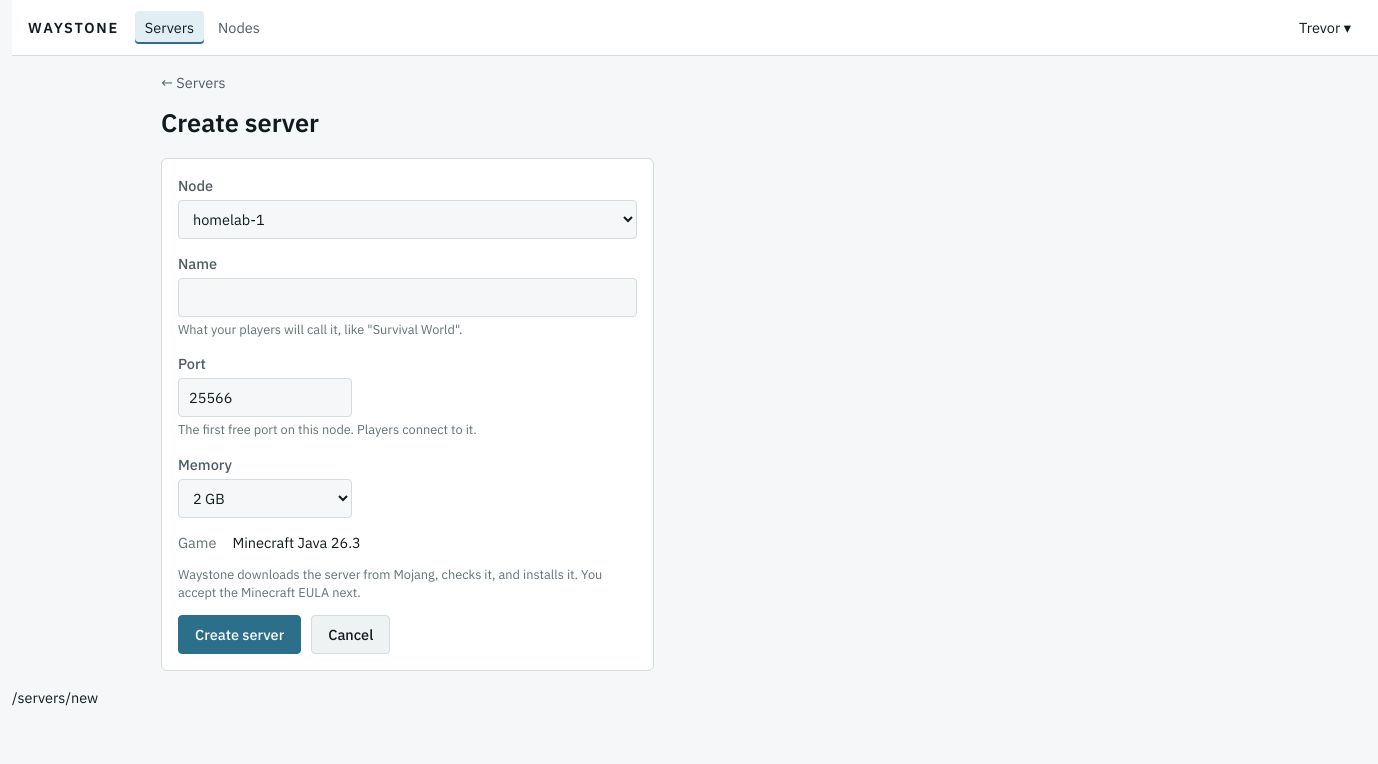
Test: create server (D9) › a refusal for the node is shown with its request ID
This screenshot has width=1378, height=764.
Expected: the dropdown labelled "Node" is shown, [178,200,637,239]
In the field labelled "Name": [408, 297] box [178,278,637,317], type "One more"
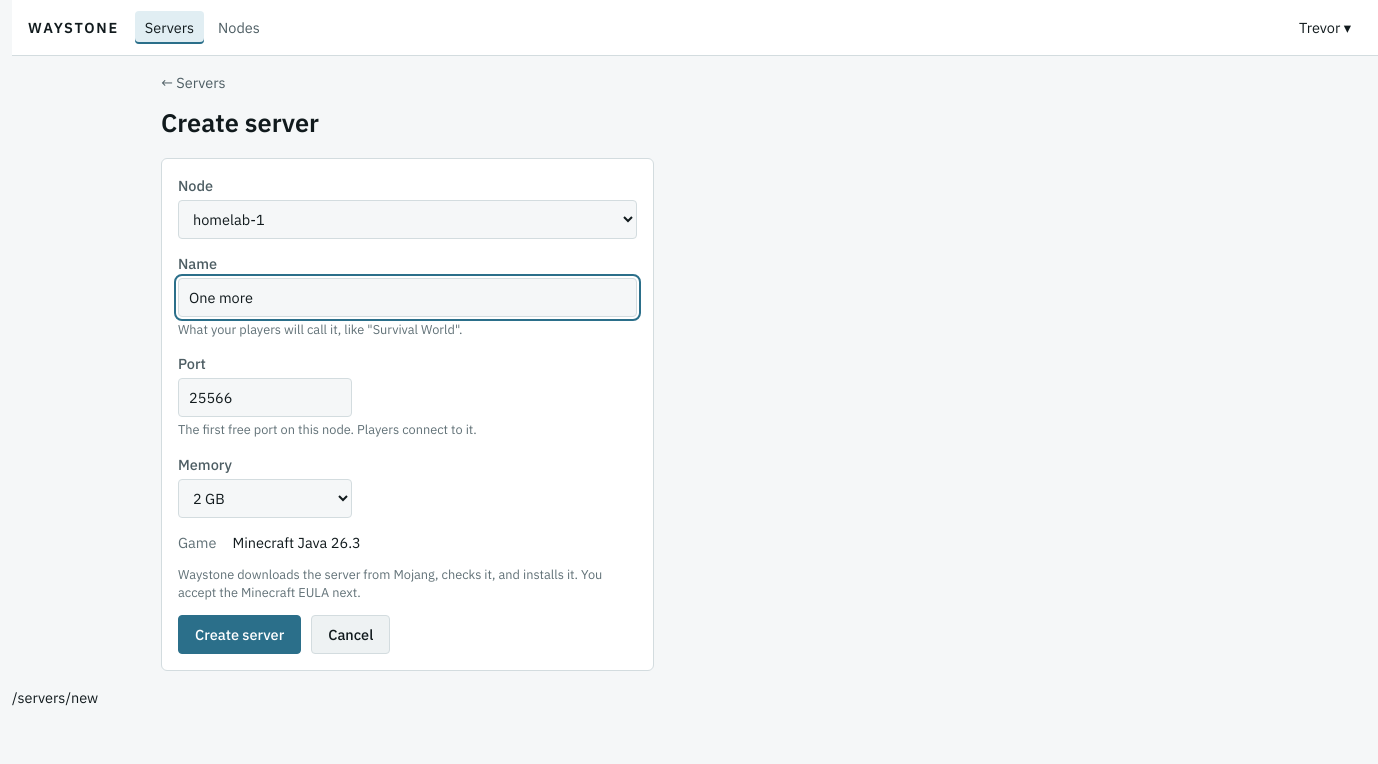
Click the button "Create server": [240, 635] box [178,615,301,654]
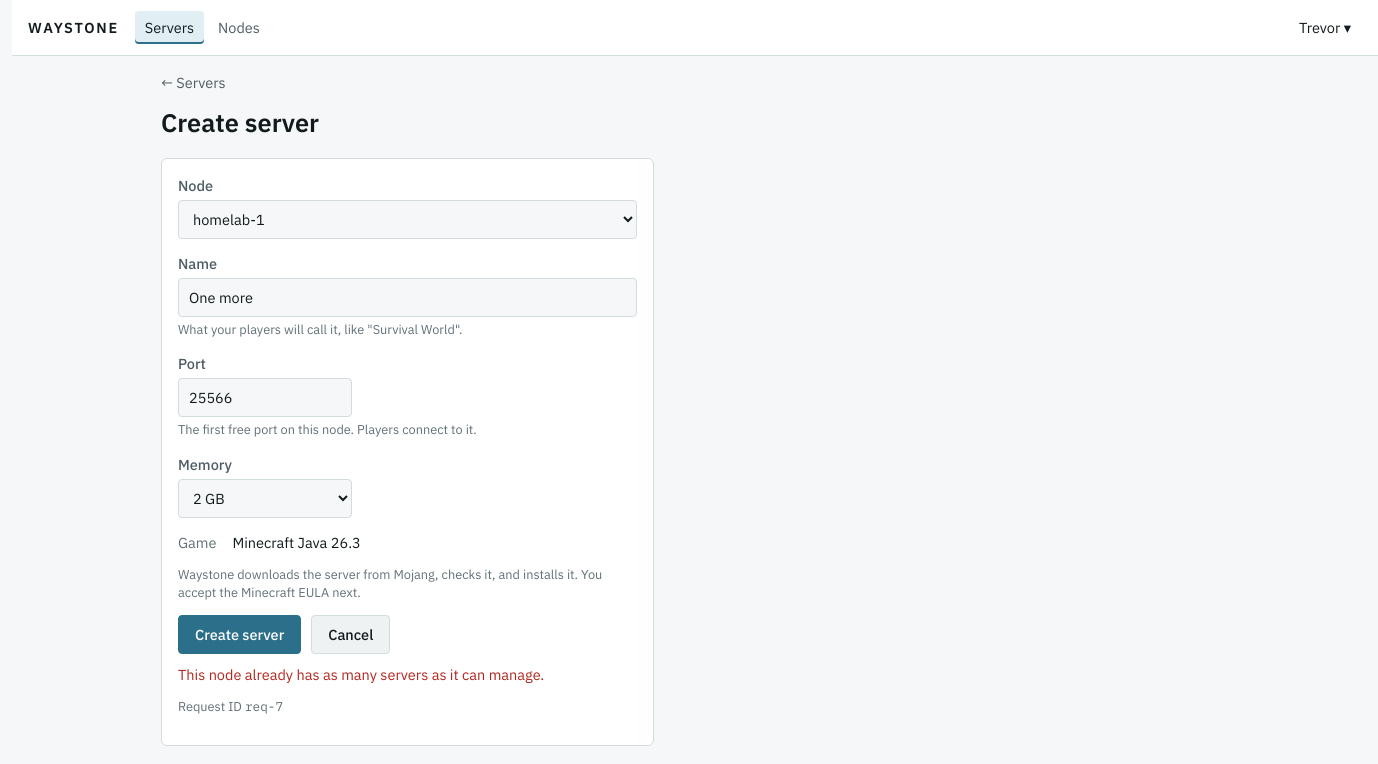
Expected: the text "This node already has as many servers as it can manage." is shown, [178,665,544,684]
Expected: the text "req-7" is shown, [245,698,283,715]
